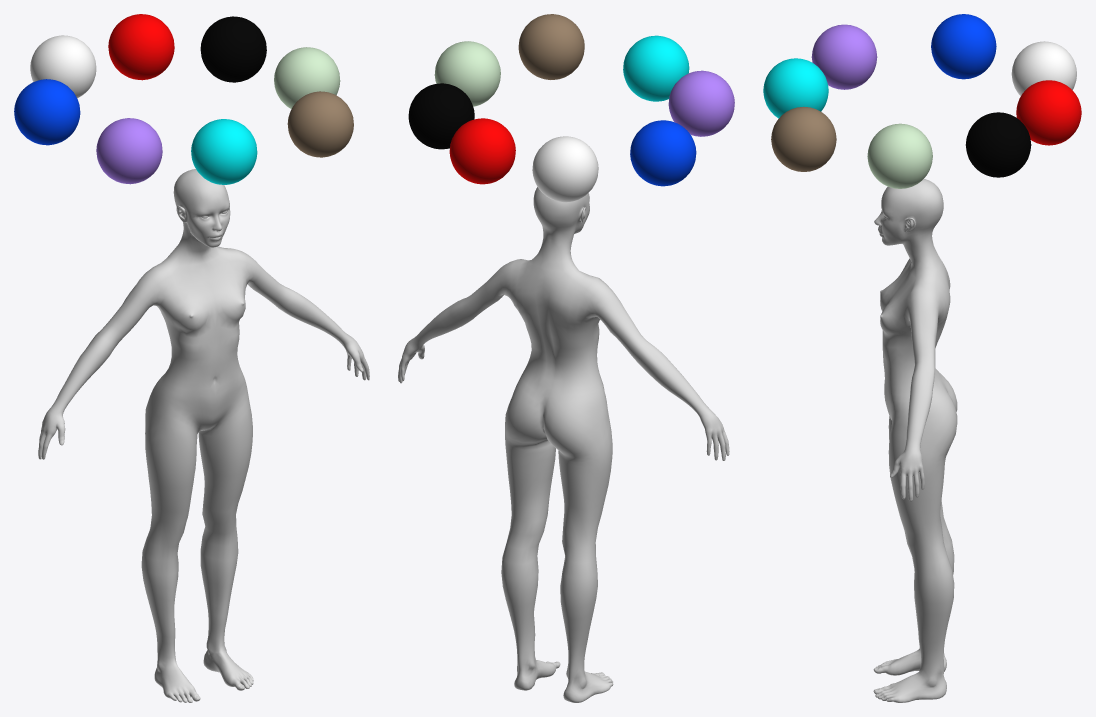
File: SolarisExportRoot.fbx
3 views of the same model, side by side, from view 1: azimuth 30°, elevation 25°; view 2: azimuth 150°, elevation 25°; view 3: azimuth 270°, elevation 25° (orthographic).
Visible parts, largest first — view 1: female_baseMesh|female_baseMesh_01|Dupli|, EarthOrb, DarkOrb, IceOrb, LightningOrb, FireOrb, WaterOrb, LightOrb, WindOrb; view 2: female_baseMesh|female_baseMesh_01|Dupli|, WaterOrb, EarthOrb, LightOrb, FireOrb, LightningOrb, IceOrb, DarkOrb, WindOrb; view 3: female_baseMesh|female_baseMesh_01|Dupli|, DarkOrb, WaterOrb, WindOrb, EarthOrb, FireOrb, LightningOrb, IceOrb, LightOrb.
Part boxes in pixels (x1=…): female_baseMesh|female_baseMesh_01|Dupli|: x1=38, y1=169, x2=369, y2=702; EarthOrb: x1=287, y1=91, x2=353, y2=157; DarkOrb: x1=200, y1=16, x2=266, y2=82; IceOrb: x1=191, y1=119, x2=257, y2=184; LightningOrb: x1=96, y1=118, x2=162, y2=184; FireOrb: x1=108, y1=14, x2=174, y2=80; WaterOrb: x1=14, y1=79, x2=80, y2=145; LightOrb: x1=30, y1=35, x2=96, y2=98; WindOrb: x1=274, y1=47, x2=340, y2=108; female_baseMesh|female_baseMesh_01|Dupli|: x1=398, y1=187, x2=729, y2=702; WaterOrb: x1=630, y1=120, x2=696, y2=186; EarthOrb: x1=518, y1=14, x2=584, y2=79; LightOrb: x1=532, y1=136, x2=598, y2=202; FireOrb: x1=449, y1=118, x2=515, y2=184; LightningOrb: x1=668, y1=70, x2=734, y2=136; IceOrb: x1=623, y1=35, x2=689, y2=101; DarkOrb: x1=408, y1=83, x2=474, y2=149; WindOrb: x1=434, y1=41, x2=500, y2=106; female_baseMesh|female_baseMesh_01|Dupli|: x1=873, y1=179, x2=957, y2=702; DarkOrb: x1=965, y1=112, x2=1031, y2=177; WaterOrb: x1=931, y1=14, x2=996, y2=79; WindOrb: x1=867, y1=123, x2=932, y2=188; EarthOrb: x1=771, y1=106, x2=836, y2=171; FireOrb: x1=1016, y1=80, x2=1081, y2=145; LightningOrb: x1=811, y1=24, x2=877, y2=89; IceOrb: x1=763, y1=58, x2=828, y2=118; LightOrb: x1=1011, y1=41, x2=1076, y2=95.
Bounding box in the file's own units: 285 × 510 × 243.
